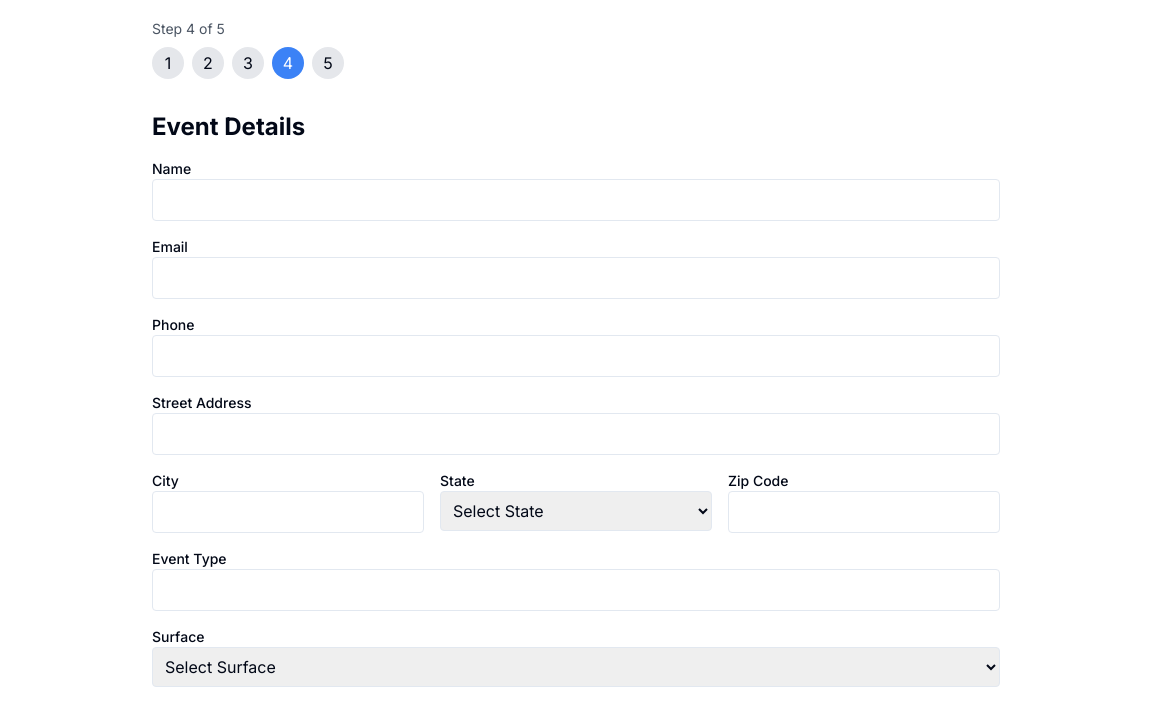
it: BookingStepper › Form Validation with Zod › should validate phone number format
In the field labelled "Phone": (576, 356) [152,335,1000,377], type "123"
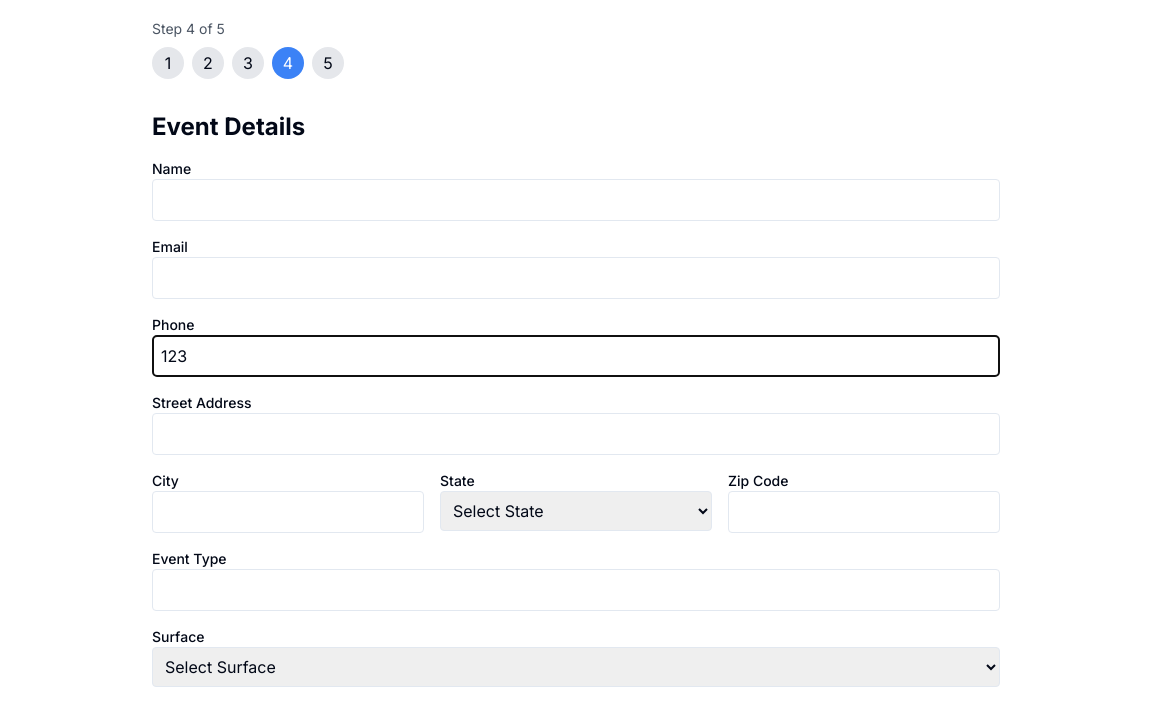
Press Tab
(page scrolled)
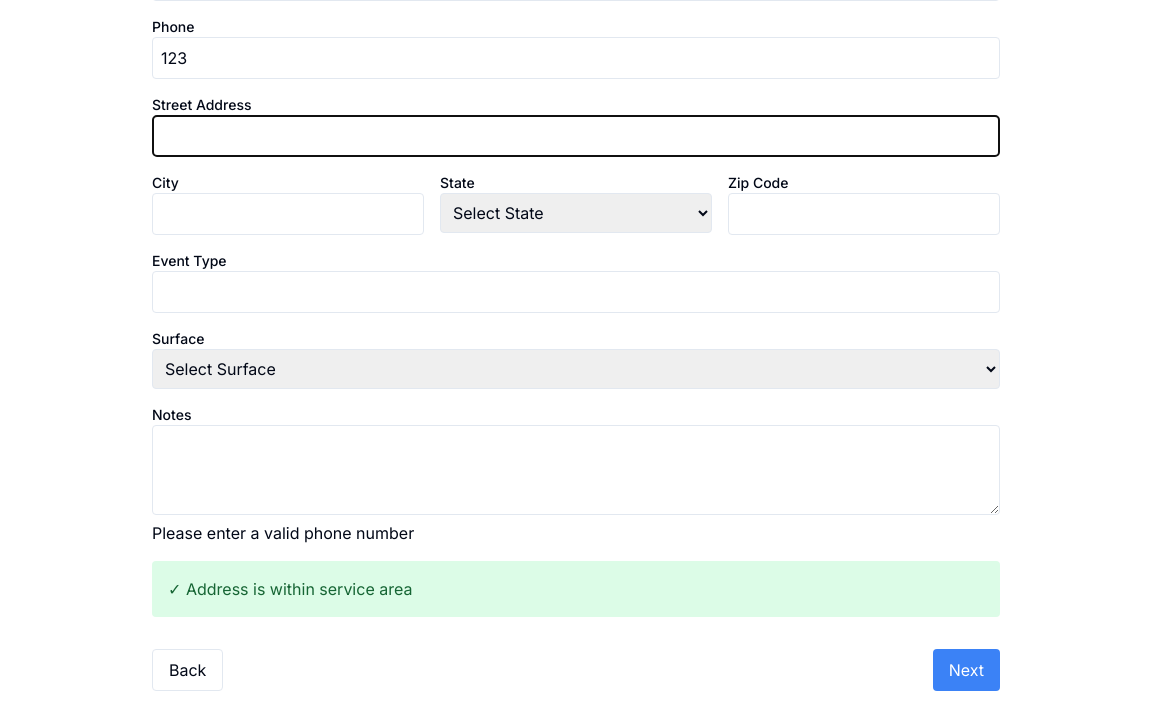
expect the text "Please enter a valid phone number" is shown: met, box [152,523,414,543]
